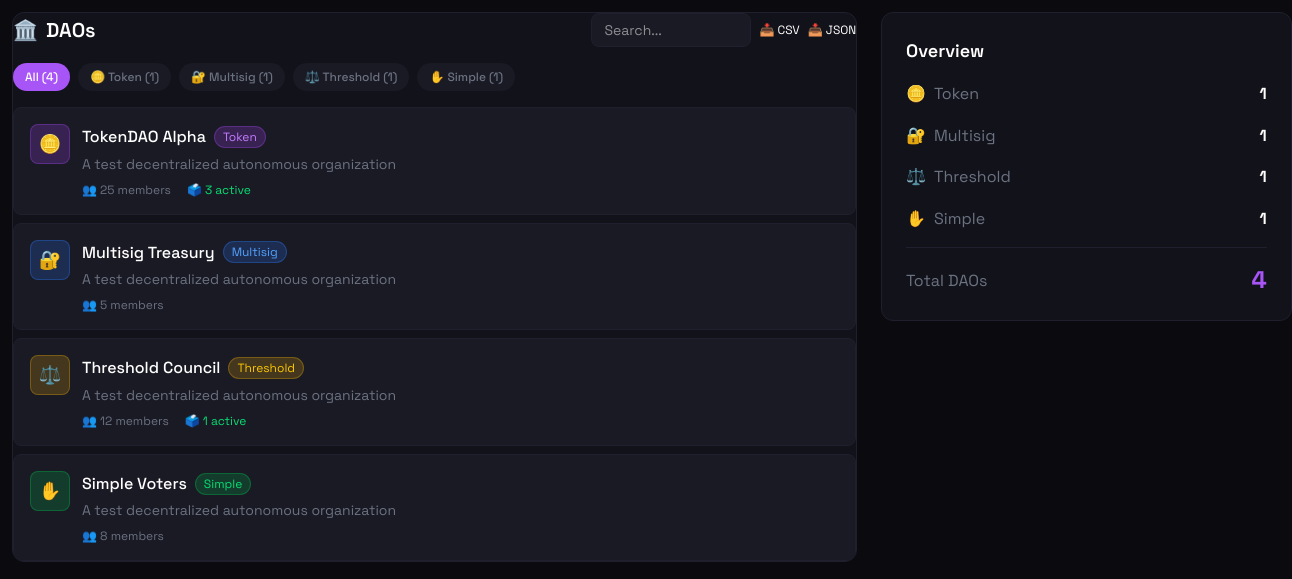
Test: DAOsView › shows "No DAOs found" when search has no match
Expected: the text "TokenDAO Alpha" is shown, top-left (82, 124), bottom-right (206, 150)
In the field with placeholder "Search...": (671, 30) top-left (591, 13), bottom-right (751, 47), type "ZZZNOMATCH9999"
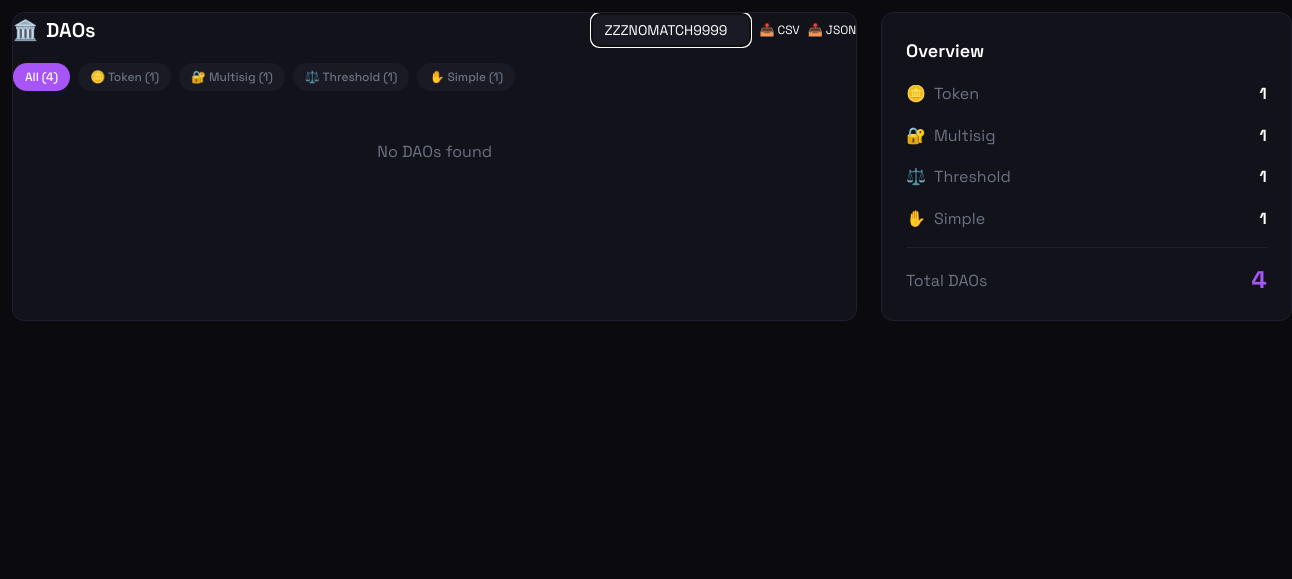
Expected: the text "No DAOs found" is shown, top-left (377, 141), bottom-right (492, 162)
